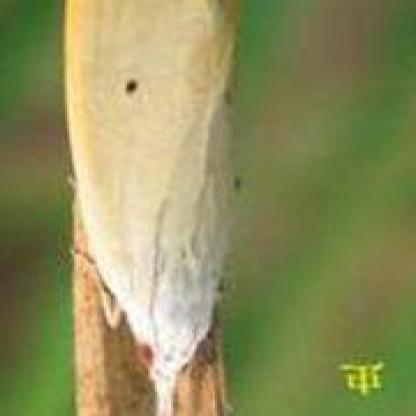stem-borer: (63, 0, 240, 416)
